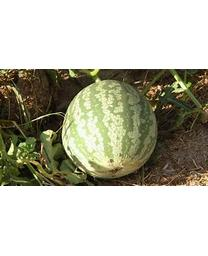watermelon: (61, 78, 157, 180)
